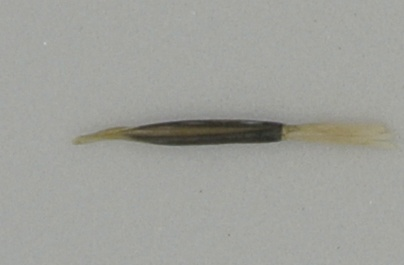เมล้ดปลายพู่กัน: (72, 115, 404, 156)
